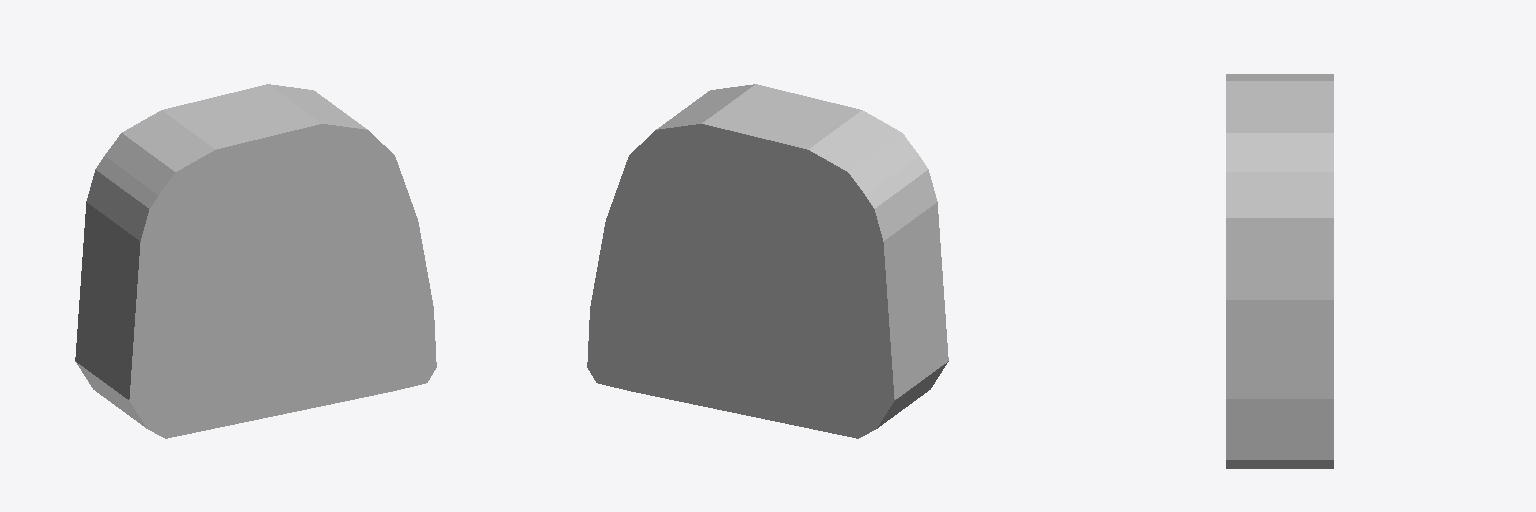
File: meter5m.obj
3 renders of one model, left to right at view 1: azimuth 30°, elevation 25°; view 2: azimuth 150°, elevation 25°; view 3: azimuth 270°, elevation 25°, orthographic.
Parts seen in each view (by area): view 1: Cube_Cube.001; view 2: Cube_Cube.001; view 3: Cube_Cube.001.
Boxes of the visible parts, box(x1,y1,x2,y2) form: Cube_Cube.001: box(75, 84, 436, 438); Cube_Cube.001: box(587, 84, 948, 438); Cube_Cube.001: box(1226, 74, 1333, 468).
Size of the model in its own units: 7.11 by 6.3 by 2.17.